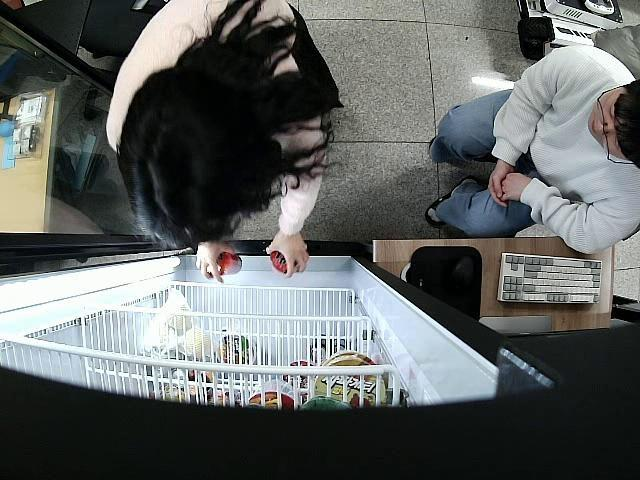02_shinRamen_S: (208, 254, 242, 278), (270, 250, 301, 274)
